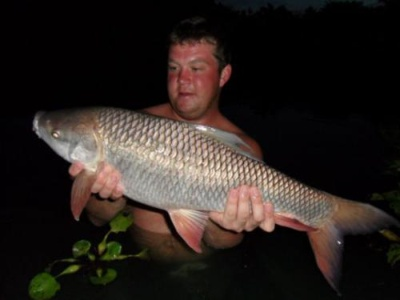rohu: (18, 108, 399, 298)
